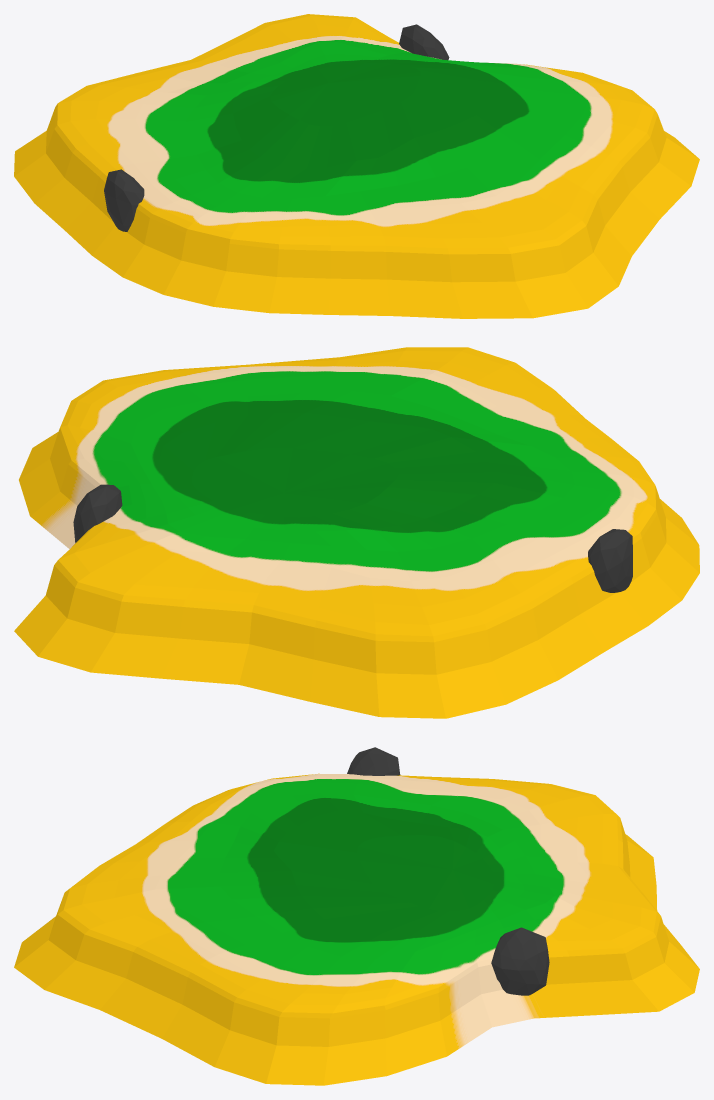
File: island.glb
3 views of the same model, one above another, from view 1: azimuth 30°, elevation 25°; view 2: azimuth 150°, elevation 25°; view 3: azimuth 270°, elevation 25° (orthographic). The views are drawn at different scales.
Visible parts, largest first — view 1: Sphere, Icosphere, Icosphere.001; view 2: Sphere, Icosphere, Icosphere.001; view 3: Sphere, Icosphere.001, Icosphere.
Boxes of the visible parts, box(x1,y1,x2,y2) form: Sphere: box(14, 14, 699, 318); Icosphere: box(104, 169, 144, 231); Icosphere.001: box(399, 24, 449, 60); Sphere: box(14, 347, 699, 718); Icosphere: box(588, 529, 632, 592); Icosphere.001: box(73, 484, 122, 542); Sphere: box(14, 773, 699, 1085); Icosphere.001: box(491, 927, 549, 995); Icosphere: box(347, 747, 400, 775).
Size of what is drawn, in the model's own units: 105 by 14.21 by 111.
2 materials, 1 textured.
